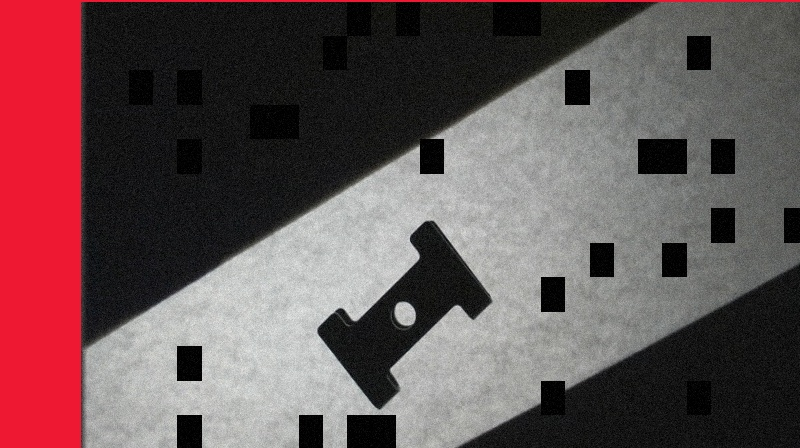O002: (313, 218, 495, 411)
